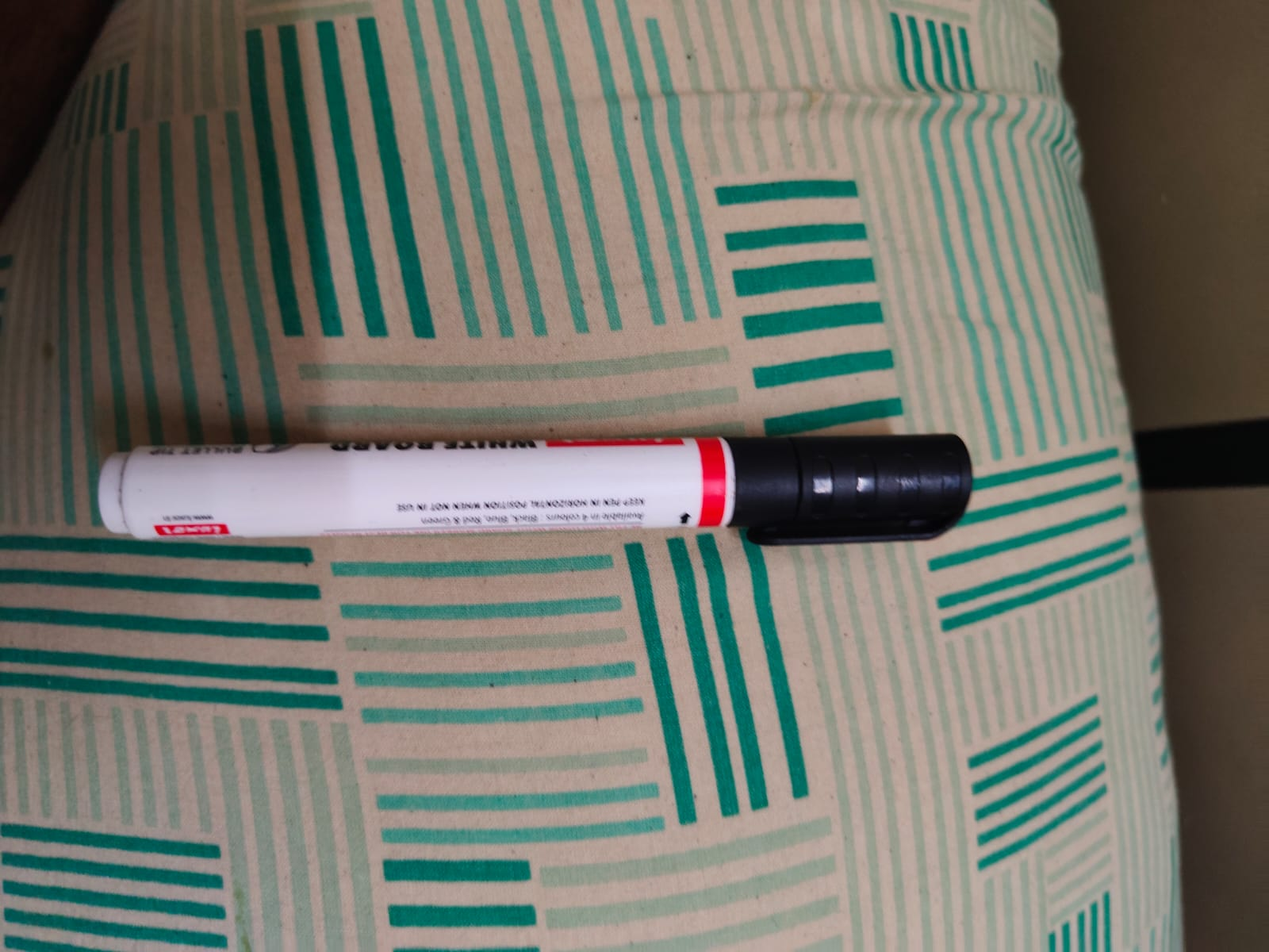case: (73, 369, 1001, 592)
